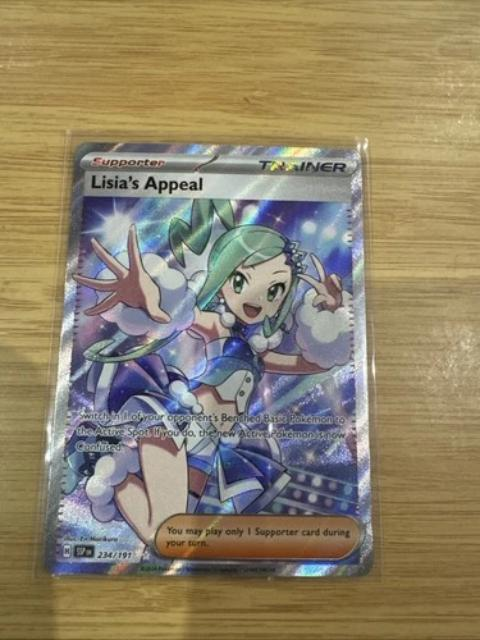Card: (40, 140, 379, 586)
Name: (83, 166, 209, 198)
